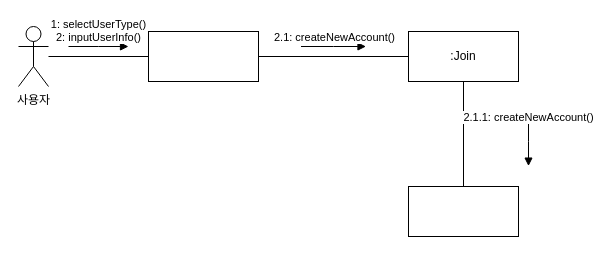
Image size: 611x254. Some labels were removed from this diagram. Each missing label, with the box of its shape:
:JoinUI: (148, 30, 258, 82)
:member: (408, 186, 518, 236)
